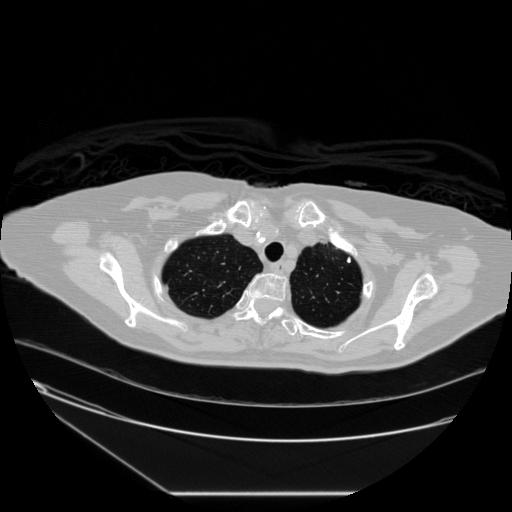nodule: (343, 254, 353, 264)
